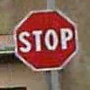stop: (10, 7, 81, 72)
